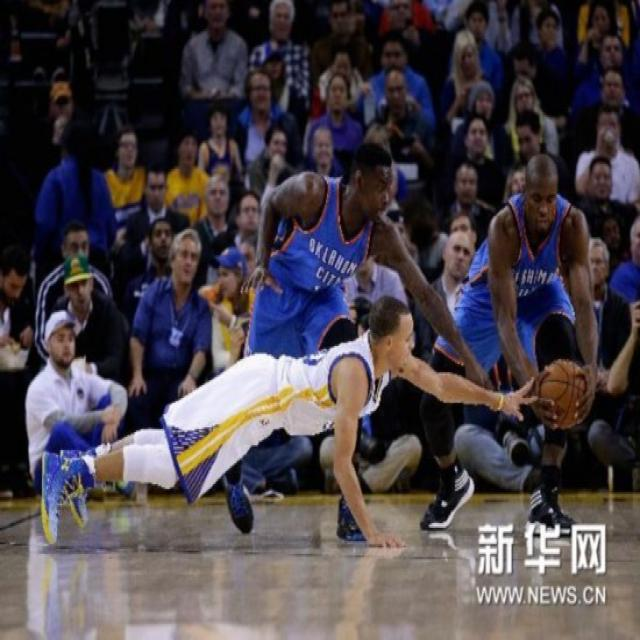10-: (0, 0, 637, 543)
down: (25, 302, 538, 541)
